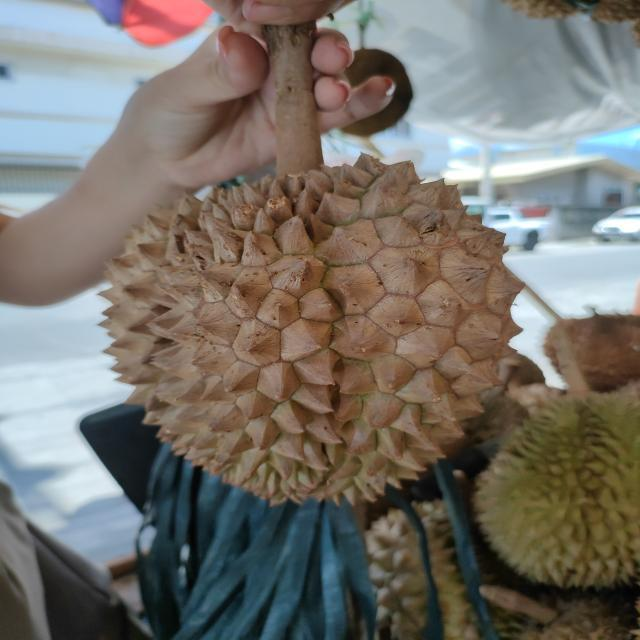mature: (96, 151, 528, 504)
